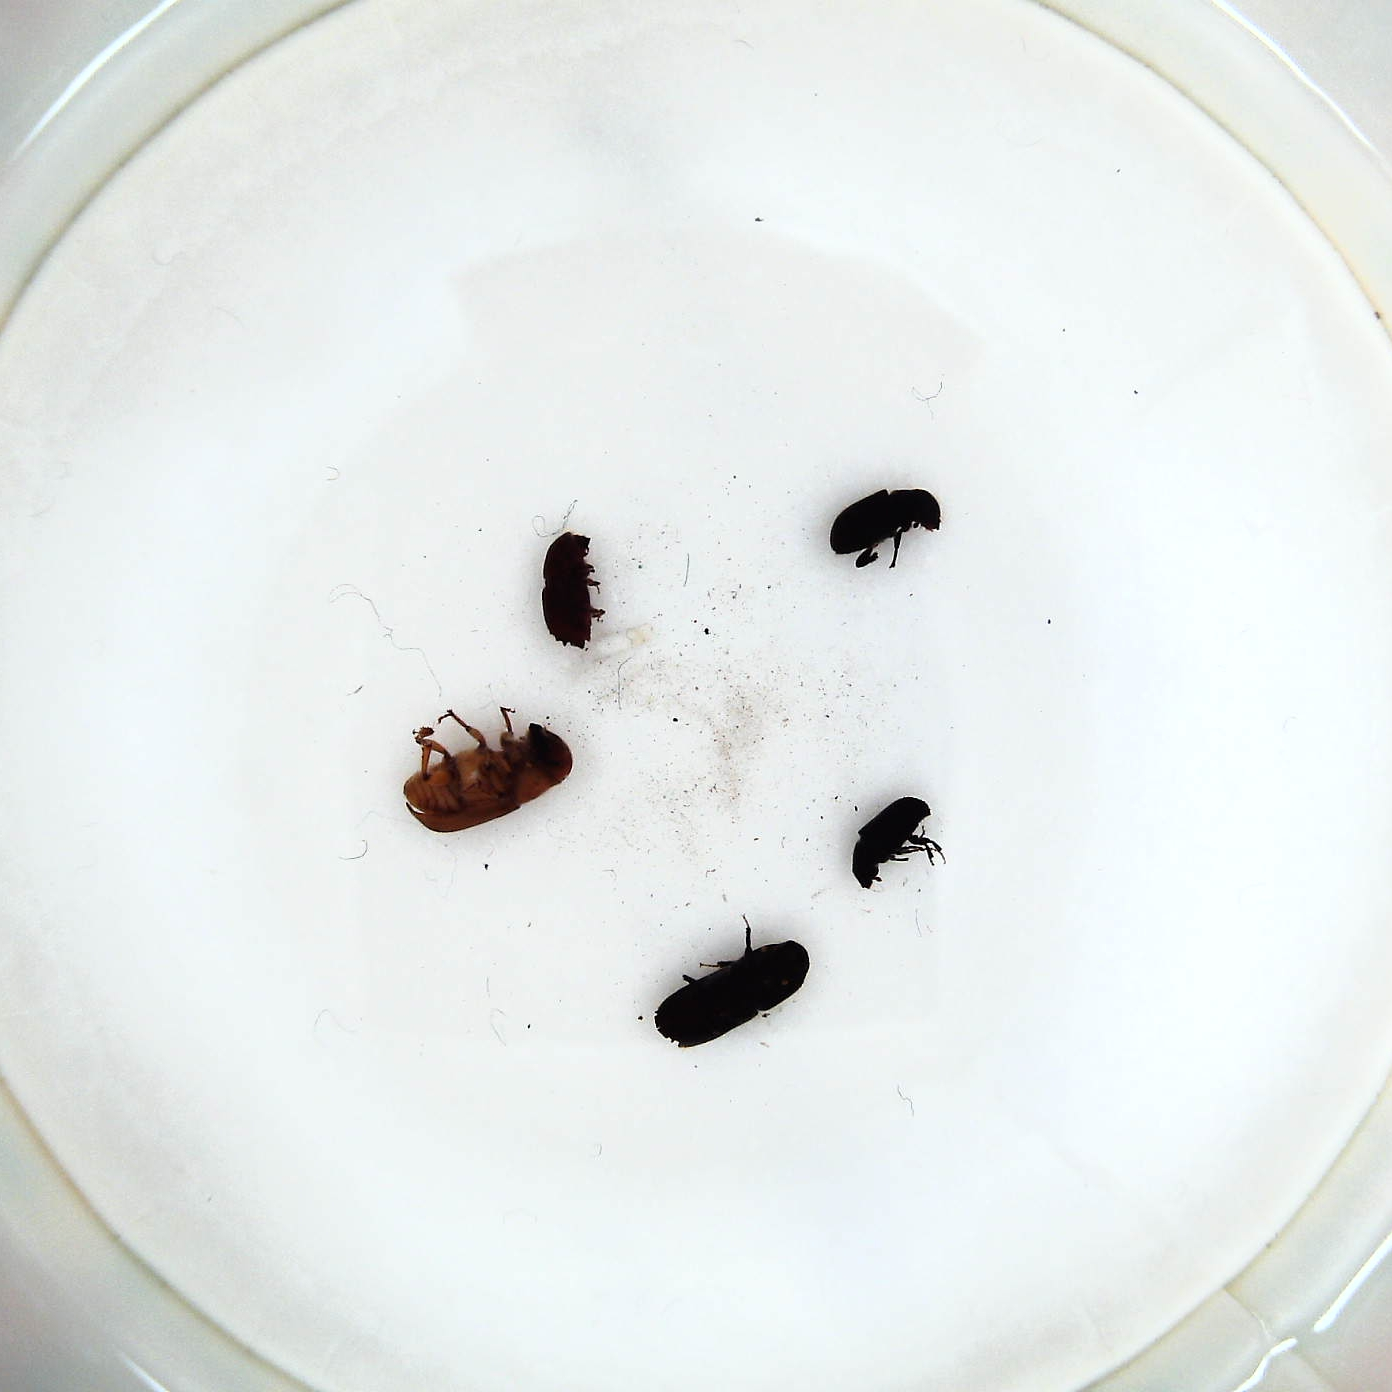Boerner: (644, 929, 817, 1055)
Leconte: (396, 695, 575, 836)
armandi: (827, 484, 951, 575)
coleoptera: (849, 795, 941, 895)
linnaeus: (534, 526, 602, 651)
